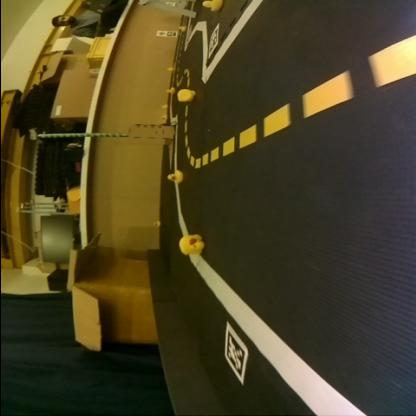Duckie: (178, 233, 202, 254), (201, 0, 221, 11), (167, 170, 181, 184), (176, 89, 192, 101), (165, 86, 173, 92), (176, 26, 184, 32), (152, 221, 160, 226)
QR code: (223, 323, 247, 384), (206, 24, 218, 57)
